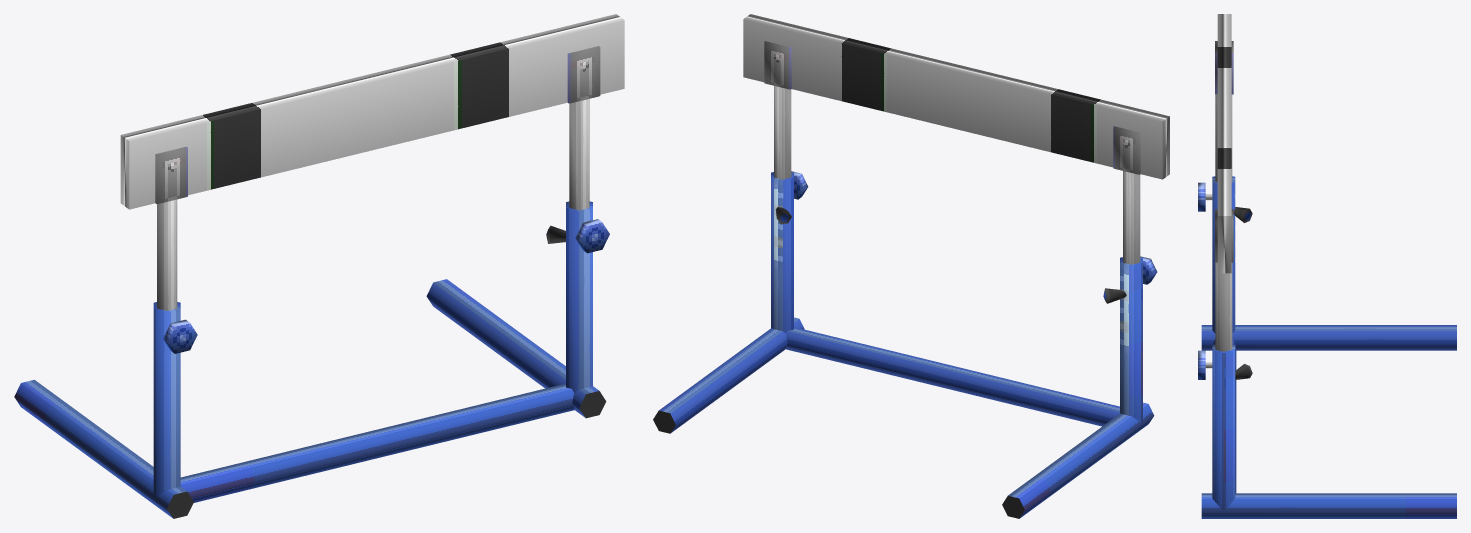
File: int_sch_hurdle.dae
The picture shows the model from 3 angles, left to right: view 1: azimuth 30°, elevation 25°; view 2: azimuth 150°, elevation 25°; view 3: azimuth 270°, elevation 25°; orthographic projection. The views are drawn at different scales.
Parts seen in each view (by area): view 1: int_sch_hurdle; view 2: int_sch_hurdle; view 3: int_sch_hurdle.
Boxes of the visible parts, x1,y1,x2,y2 form: int_sch_hurdle: [14, 14, 624, 518]; int_sch_hurdle: [653, 14, 1169, 518]; int_sch_hurdle: [1198, 14, 1456, 518].
Size of the model in its own units: 32.81 by 24 by 17.75.
Materials: 1 (1 with a texture image).
